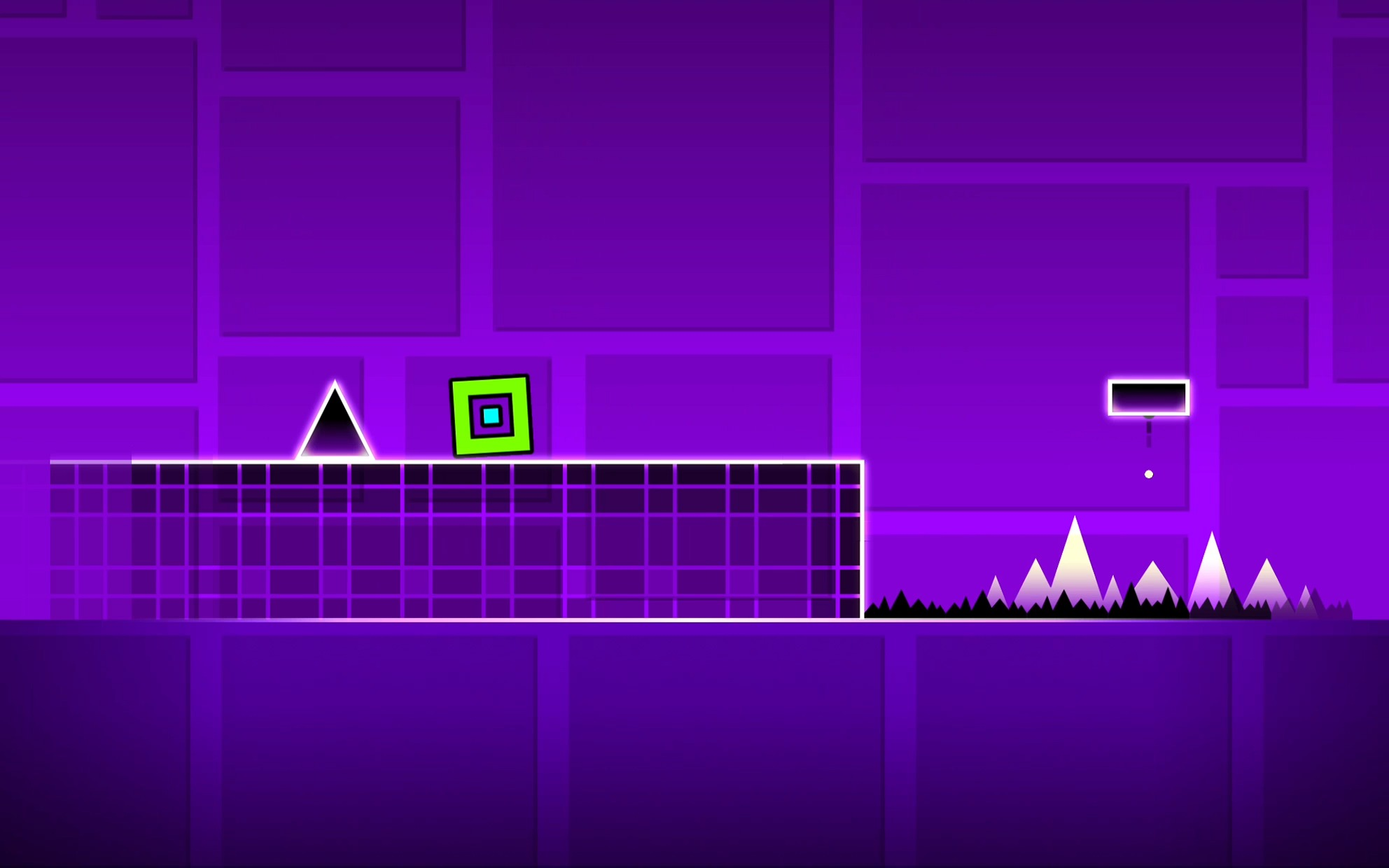Block2: (32, 458, 867, 611)
Block3: (1107, 379, 1191, 415)
Player: (448, 374, 531, 454)
Spike: (297, 381, 373, 458)
Spike3: (861, 584, 1378, 622)
